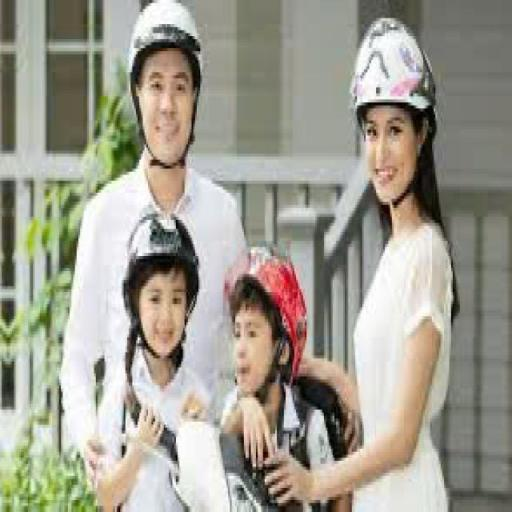with helmet: (220, 233, 310, 383), (352, 11, 442, 112), (117, 0, 209, 82), (122, 211, 202, 304)
